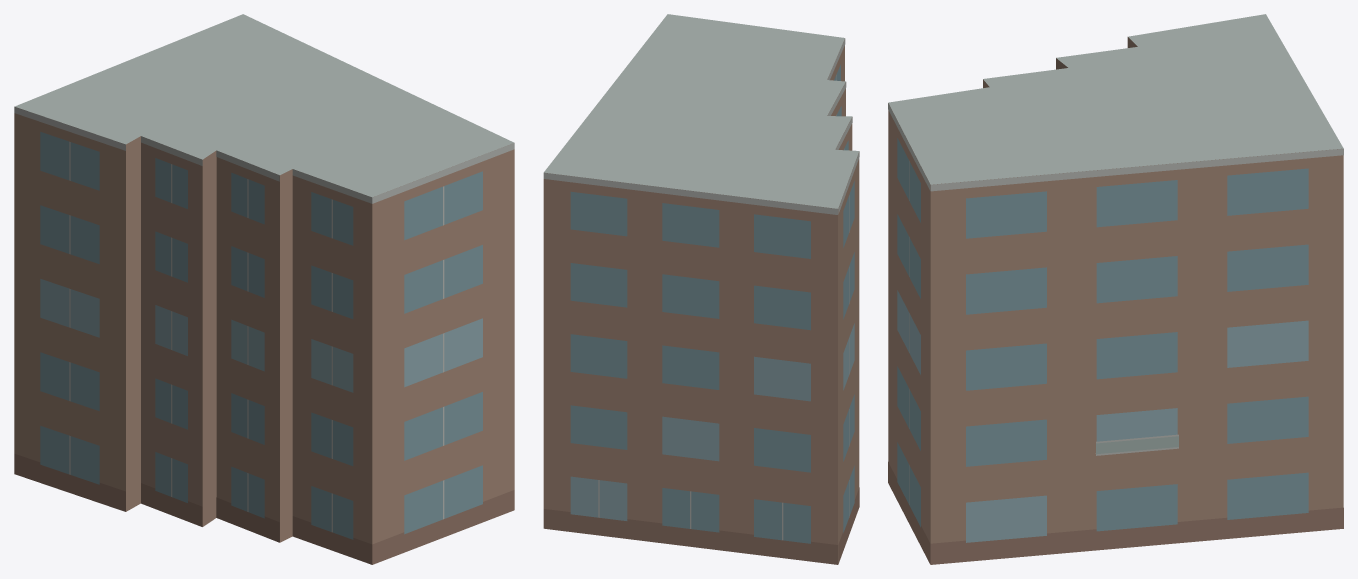
Rendered from survey-upis-32770339.glb.
3 views of the same model, side by side, from view 1: azimuth 30°, elevation 25°; view 2: azimuth 150°, elevation 25°; view 3: azimuth 270°, elevation 25° (orthographic). The views are drawn at different scales.
Parts seen in each view (by area): view 1: survey-upis-32770339.tmp; view 2: survey-upis-32770339.tmp; view 3: survey-upis-32770339.tmp.
Boxes of the visible parts, x1,y1,x2,y2 form: survey-upis-32770339.tmp: (14,14,514,564); survey-upis-32770339.tmp: (543,14,859,564); survey-upis-32770339.tmp: (888,14,1343,564).
Size of the model in its own units: 13.3 by 13.8 by 15.
